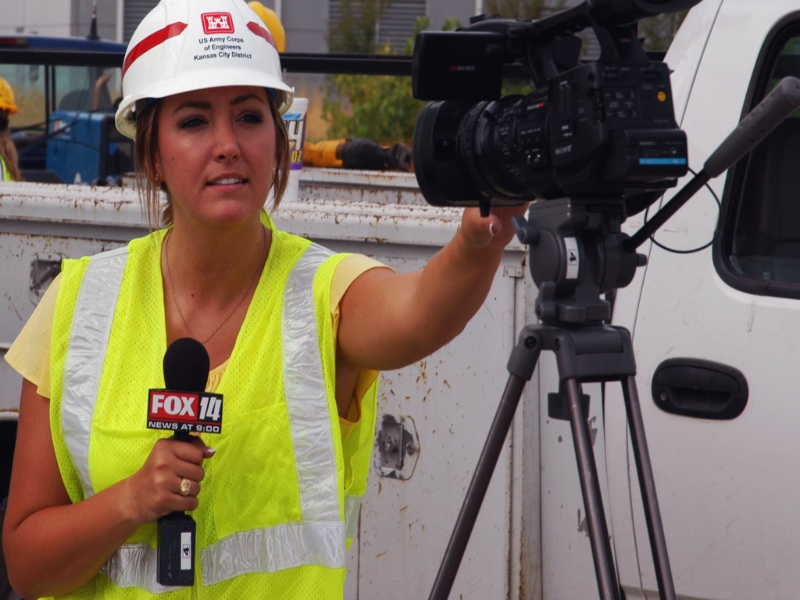Baret: (123, 1, 294, 108)
